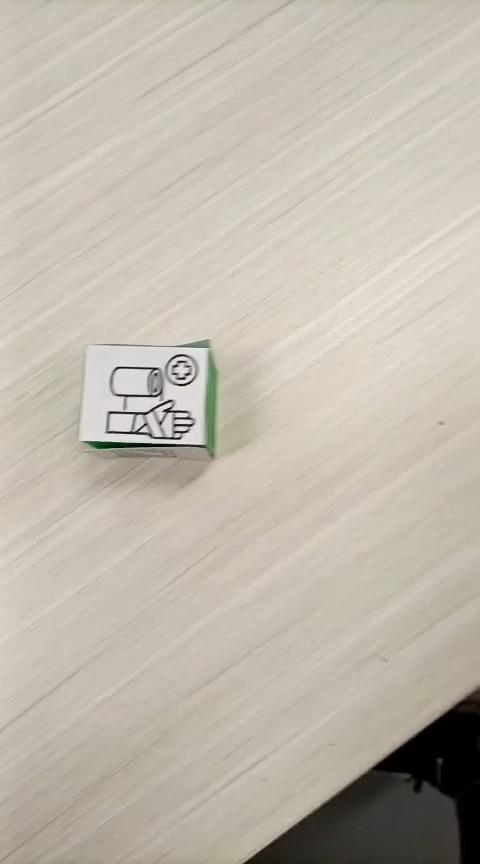Bandages: (76, 338, 217, 461)
